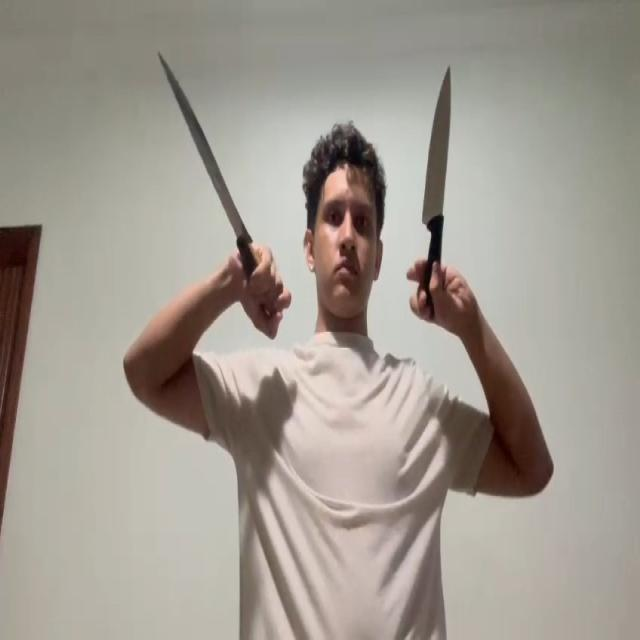knife: (158, 50, 252, 238), (422, 65, 453, 221)
